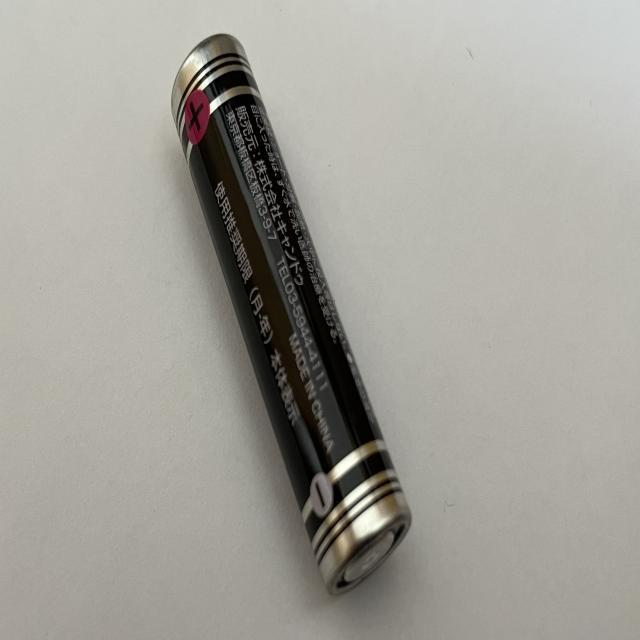hazardous waste: (168, 30, 414, 602)
